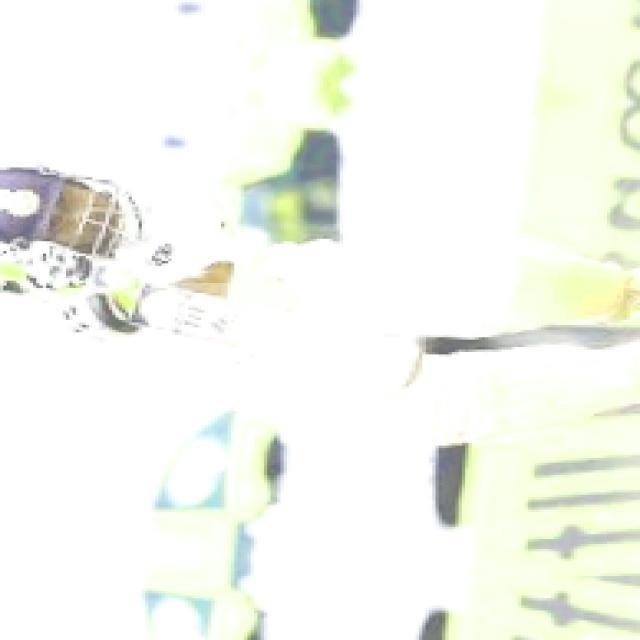bat: (101, 276, 431, 403)
toe: (402, 343, 425, 396)
